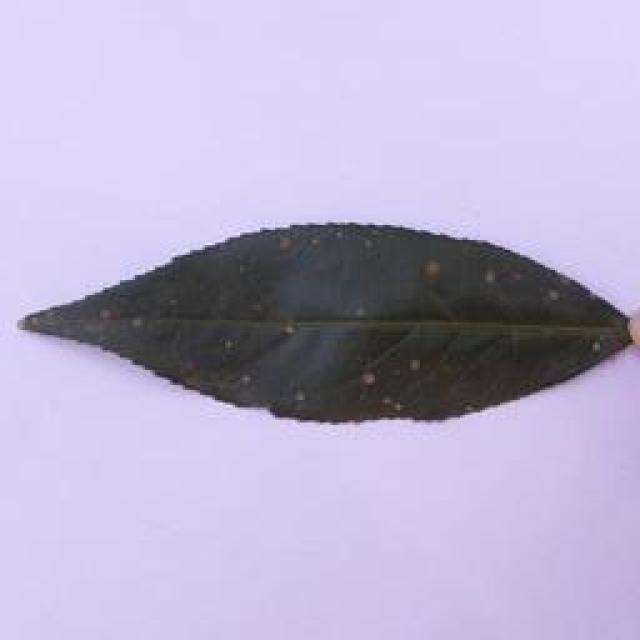Algal Leaf Spot: (22, 220, 640, 432)
